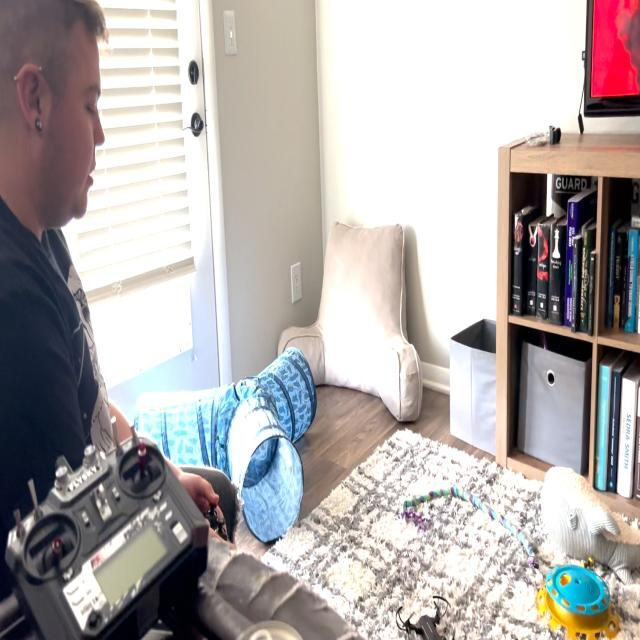drone: (388, 582, 467, 640)
